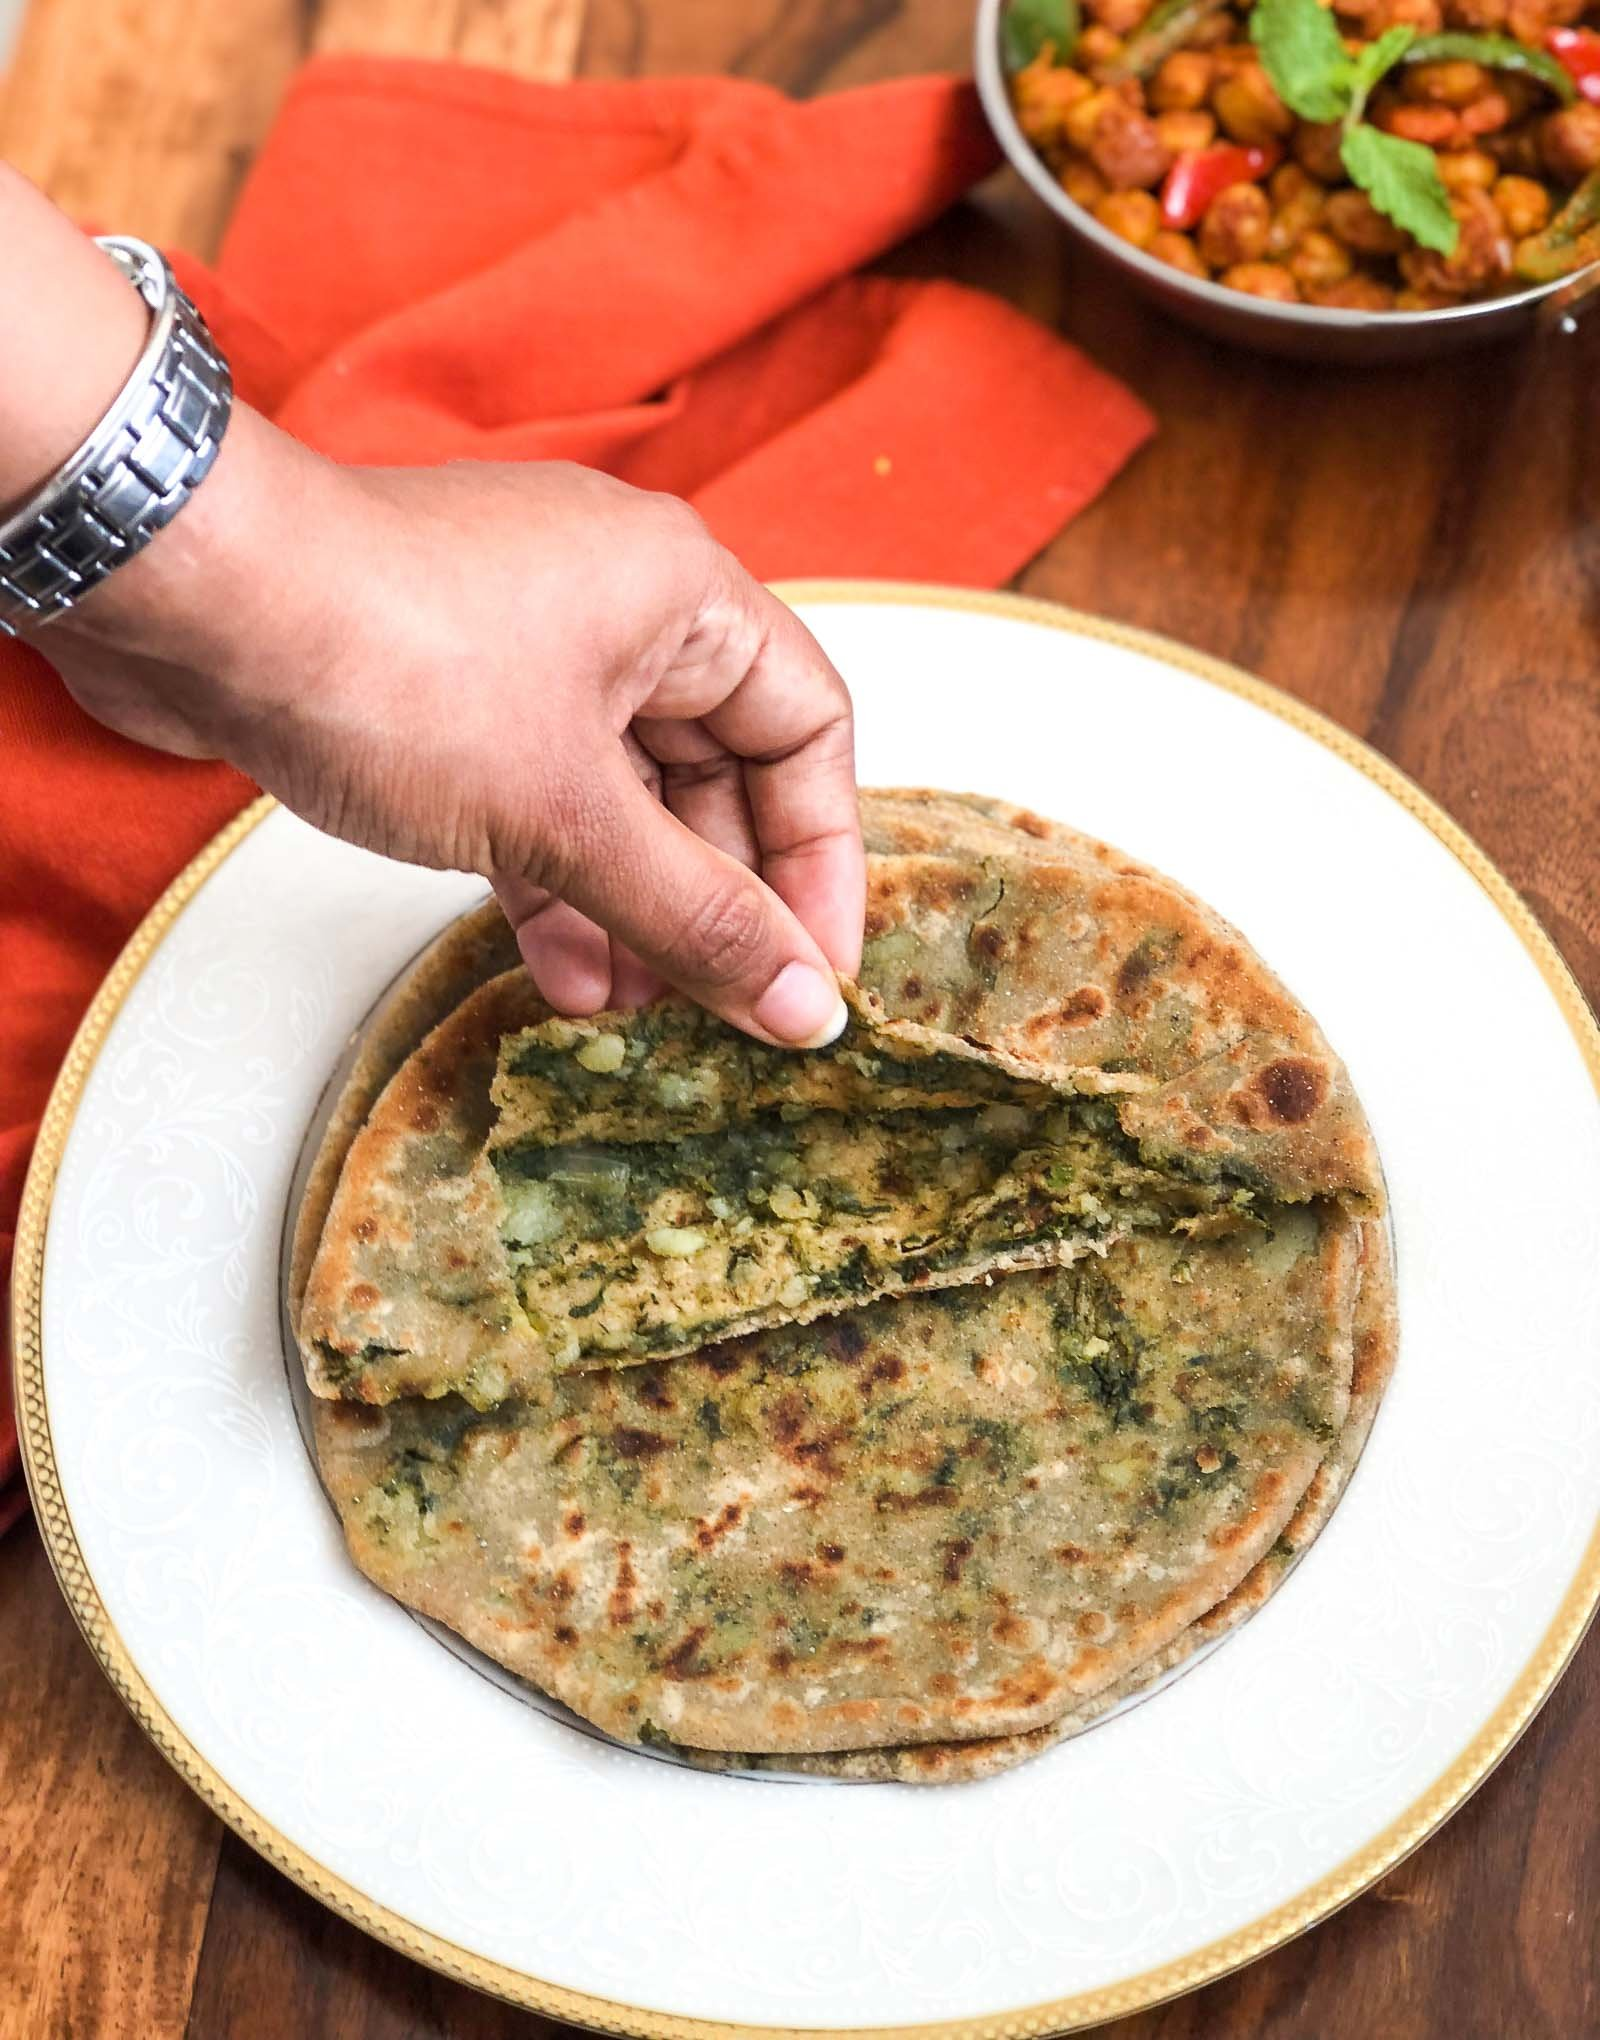aloo_paratha: (270, 780, 1411, 1777)
